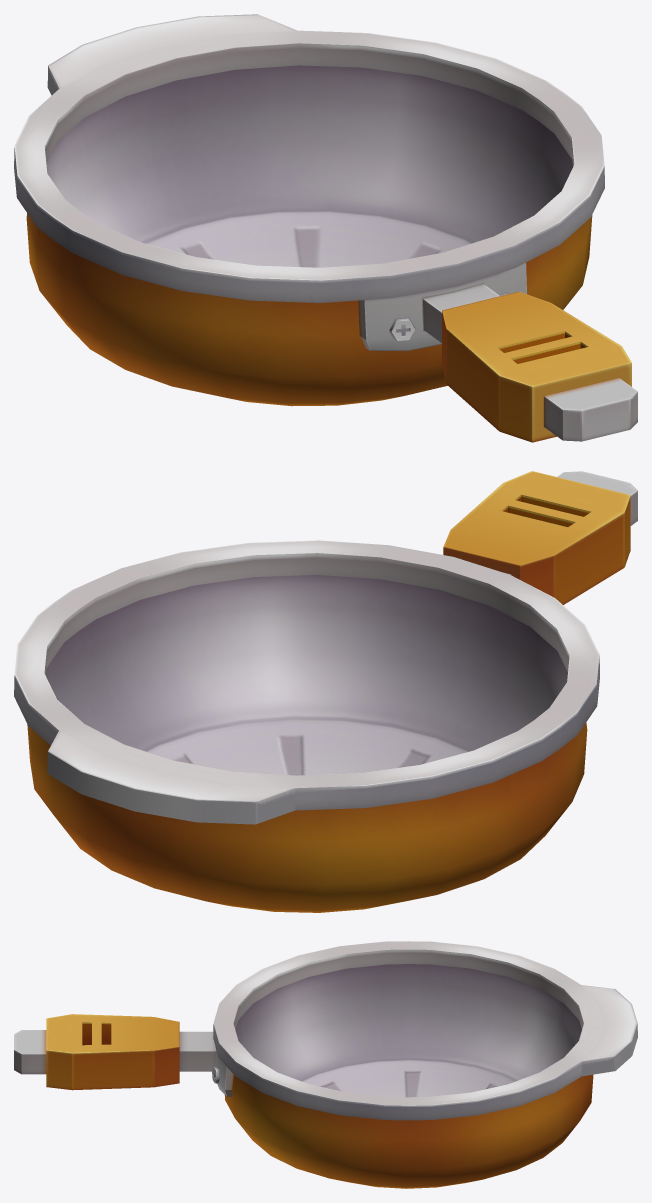
File: 世界餐厅-道具-B级锅.FBX
3 views of the same model, one above another, from view 1: azimuth 30°, elevation 25°; view 2: azimuth 150°, elevation 25°; view 3: azimuth 270°, elevation 25° (orthographic). The views are drawn at different scales.
Parts seen in each view (by area): view 1: 世界餐厅-道具-B级锅; view 2: 世界餐厅-道具-B级锅; view 3: 世界餐厅-道具-B级锅.
Part boxes in pixels (x1,y1,x2,y2): 世界餐厅-道具-B级锅: (14, 14, 637, 442); 世界餐厅-道具-B级锅: (14, 471, 637, 912); 世界餐厅-道具-B级锅: (14, 941, 637, 1188).
Bounding box in the file's own units: 38.74 × 13.58 × 62.
Materials: 1 (1 with a texture image).
